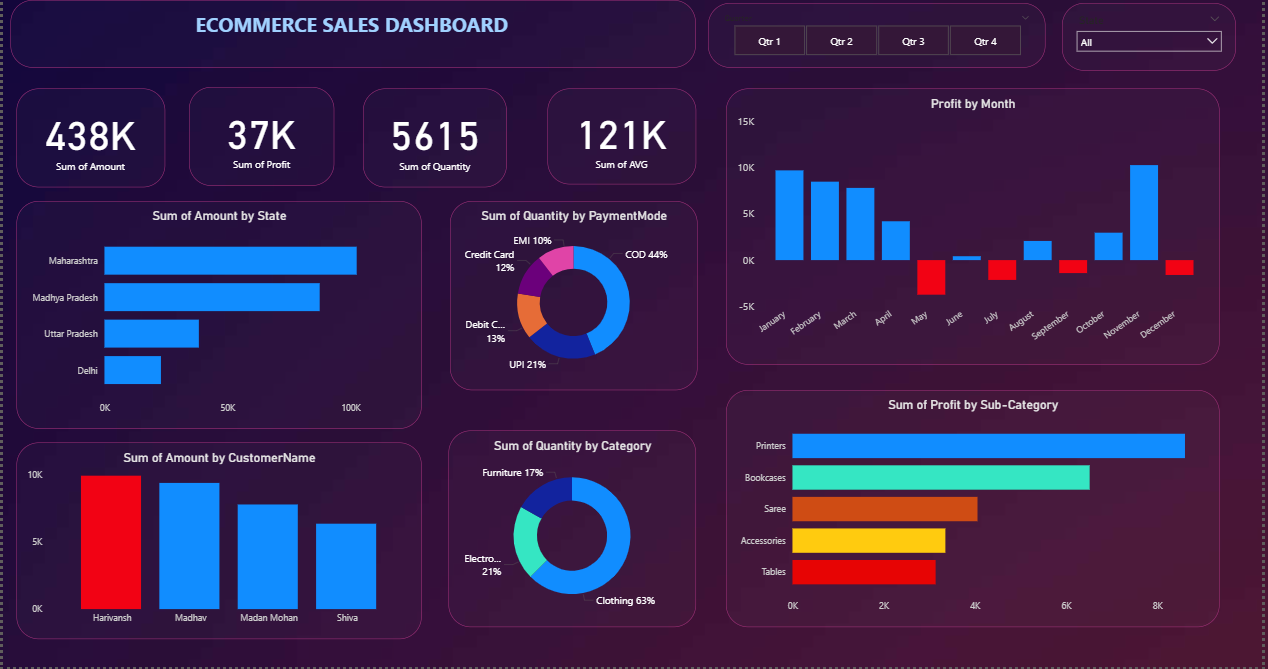

What the dashboard file says about the page in this screenshot:
{"tool":"powerbi","page":{"name":"Page 1","canvas":[1700,900],"ordinal":0},"visuals":[{"type":"textbox","box":[10.1,0,925,91.1],"z":0},{"type":"columnChart","title":"Profit by Month","fields":{"Category":["Orders.Order Date.Variation.Date Hierarchy.Month"],"Y":["Sum(Details.Profit)"]},"box":[975.6,119.4,665.9,372.4],"z":1000},{"type":"barChart","fields":{"Category":["Details.Sub-Category"],"Y":["Sum(Details.Profit)"]},"box":[975.6,526.2,665.9,319.8],"z":2000},{"type":"donutChart","fields":{"Category":["Details.Category"],"Y":["Sum(Details.Quantity)"]},"box":[601.1,580.9,334,265.1],"z":3000},{"type":"donutChart","fields":{"Category":["Details.PaymentMode"],"Y":["Sum(Details.Quantity)"]},"box":[603.2,271.2,334,255],"z":4000},{"type":"card","fields":{"Values":["Sum(Details.Amount)"]},"box":[18.2,119.4,200.4,133.6],"z":5000},{"type":"card","fields":{"Values":["Sum(Details.Quantity)"]},"box":[485.8,119.4,194.3,133.6],"z":6000},{"type":"card","fields":{"Values":["Sum(Details.Profit)"]},"box":[251,117.4,196.3,133.6],"z":7000},{"type":"card","fields":{"Values":["Sum(Details.AVG)"]},"box":[734.7,119.4,200.4,129.5],"z":8000},{"type":"barChart","fields":{"Category":["Orders.State"],"Y":["Sum(Details.Amount)"]},"box":[18.2,271.2,546.5,307.7],"z":9000},{"type":"columnChart","fields":{"Category":["Orders.CustomerName"],"Y":["Sum(Details.Amount)"]},"box":[18.2,599.1,546.5,265.1],"z":10000},{"type":"slicer","fields":{"Values":["Orders.Order Date.Variation.Date Hierarchy.Quarter"]},"box":[951.3,4,455.4,87],"z":11000},{"type":"slicer","fields":{"Values":["Orders.State"]},"box":[1429,4,234.8,91.1],"z":12000}]}

Visuals, with their boxes in screenshot pixels (x1, y1, x2, y2), scaled from the page's 1700x900 canvas onto the 1268x669 screenshot:
textbox: [8, 0, 697, 68]
"Profit by Month" columnChart: [728, 89, 1224, 366]
barChart - Details.Sub-Category x Sum(Details.Profit): [728, 391, 1224, 629]
donutChart - Details.Category x Sum(Details.Quantity): [448, 432, 697, 629]
donutChart - Details.PaymentMode x Sum(Details.Quantity): [450, 202, 699, 391]
card - Sum(Details.Amount): [14, 89, 163, 188]
card - Sum(Details.Quantity): [362, 89, 507, 188]
card - Sum(Details.Profit): [187, 87, 334, 187]
card - Sum(Details.AVG): [548, 89, 697, 185]
barChart - Orders.State x Sum(Details.Amount): [14, 202, 421, 430]
columnChart - Orders.CustomerName x Sum(Details.Amount): [14, 445, 421, 642]
slicer - Orders.Order Date.Variation.Date Hierarchy.Quarter: [710, 3, 1049, 68]
slicer - Orders.State: [1066, 3, 1241, 71]
